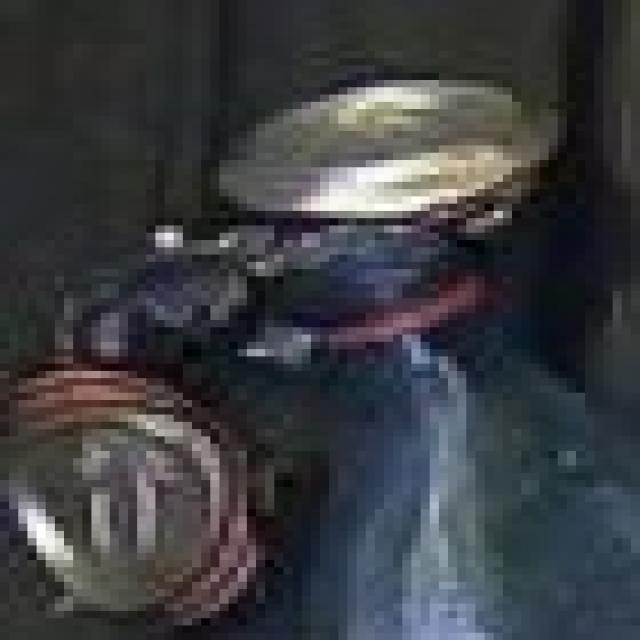litter: (1, 35, 587, 640)
